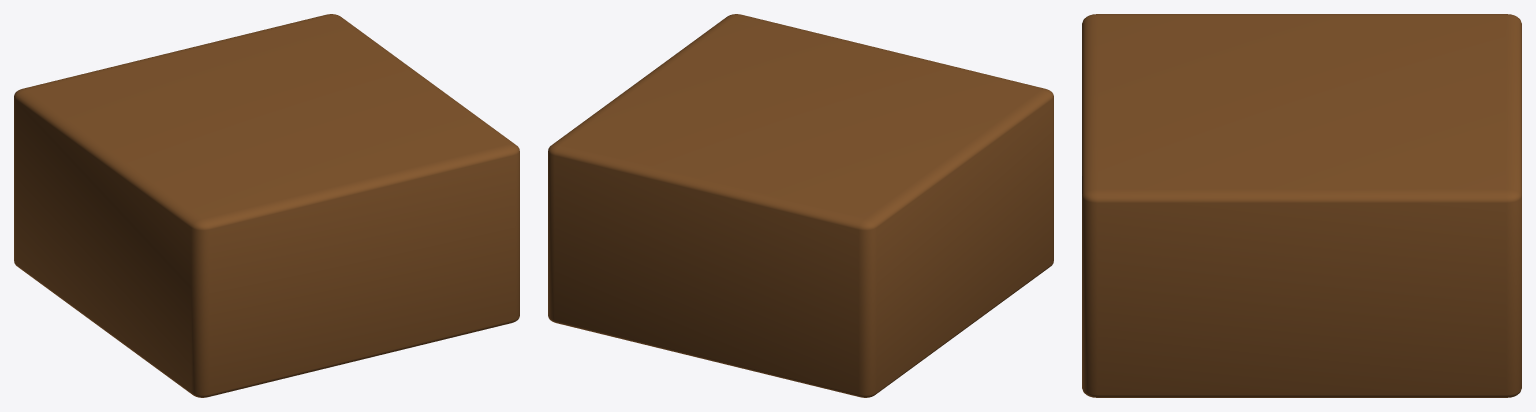
File: shirtShoulder.fbx
3 views of the same model, side by side, from view 1: azimuth 30°, elevation 25°; view 2: azimuth 150°, elevation 25°; view 3: azimuth 270°, elevation 25° (orthographic). The views are drawn at different scales.
Visible parts, largest first — view 1: Upper Right Arm.001; view 2: Upper Right Arm.001; view 3: Upper Right Arm.001.
Boxes of the visible parts, left/top/right/bottom form: Upper Right Arm.001: left=14, top=14, right=519, bottom=397; Upper Right Arm.001: left=548, top=14, right=1053, bottom=397; Upper Right Arm.001: left=1082, top=14, right=1521, bottom=397.
Bounding box in the file's own units: 101 × 52.22 × 101.
